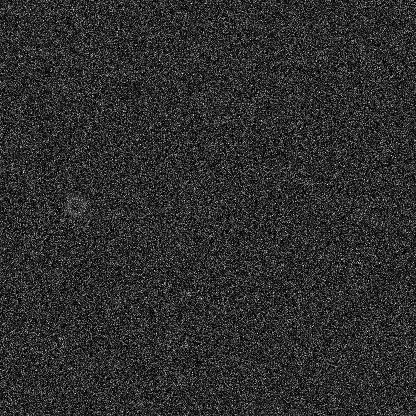Ring: (63, 193, 87, 217)
Spot: (354, 206, 370, 222)
